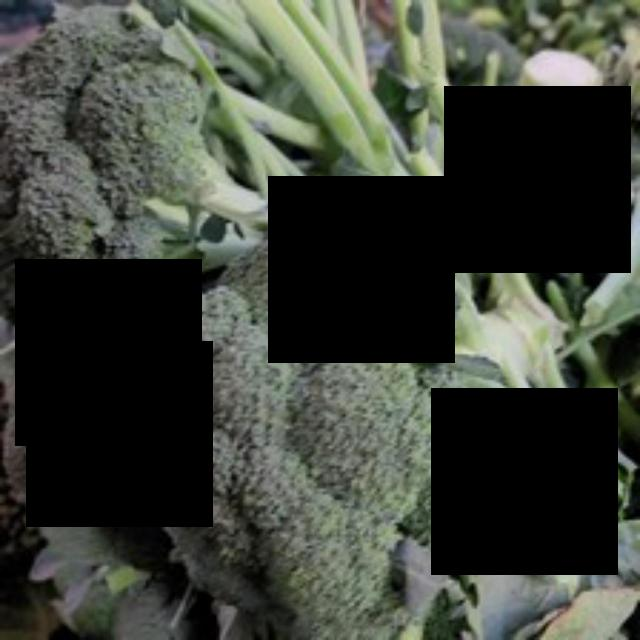broccoli: (131, 197, 520, 637)
